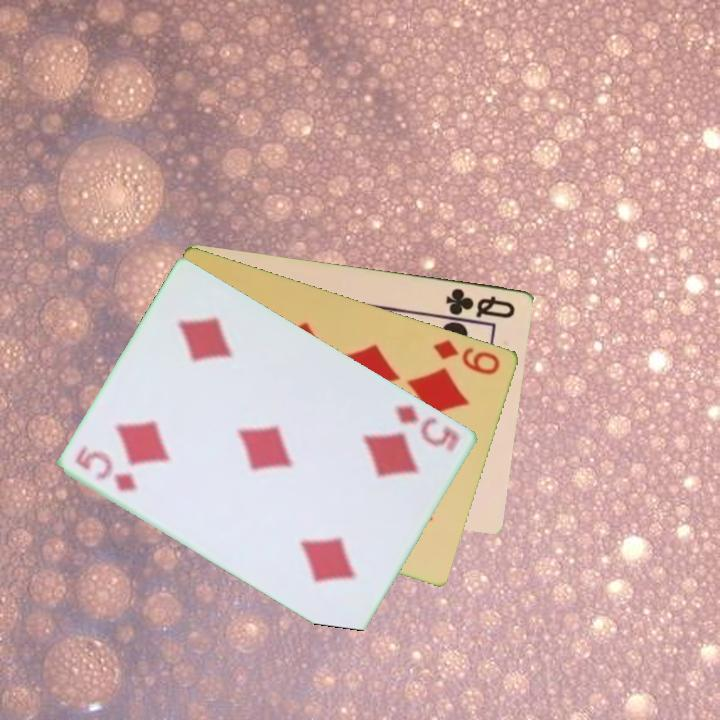5d: (392, 401, 464, 455), (72, 442, 142, 495)
9d: (430, 335, 504, 378)
Qc: (442, 284, 519, 321)
